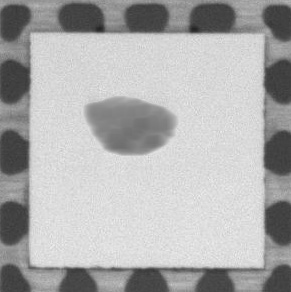DIE_INK: (86, 95, 178, 159)
